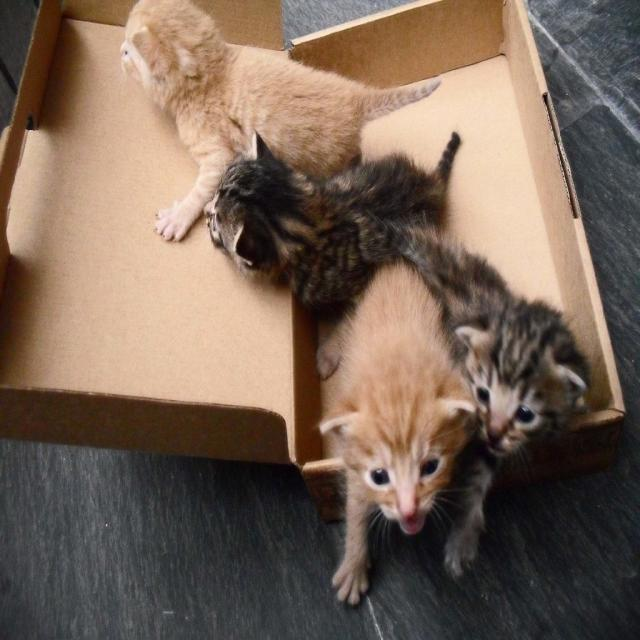Cat: (108, 0, 439, 242), (391, 214, 592, 584), (315, 252, 479, 606), (202, 128, 461, 304)
